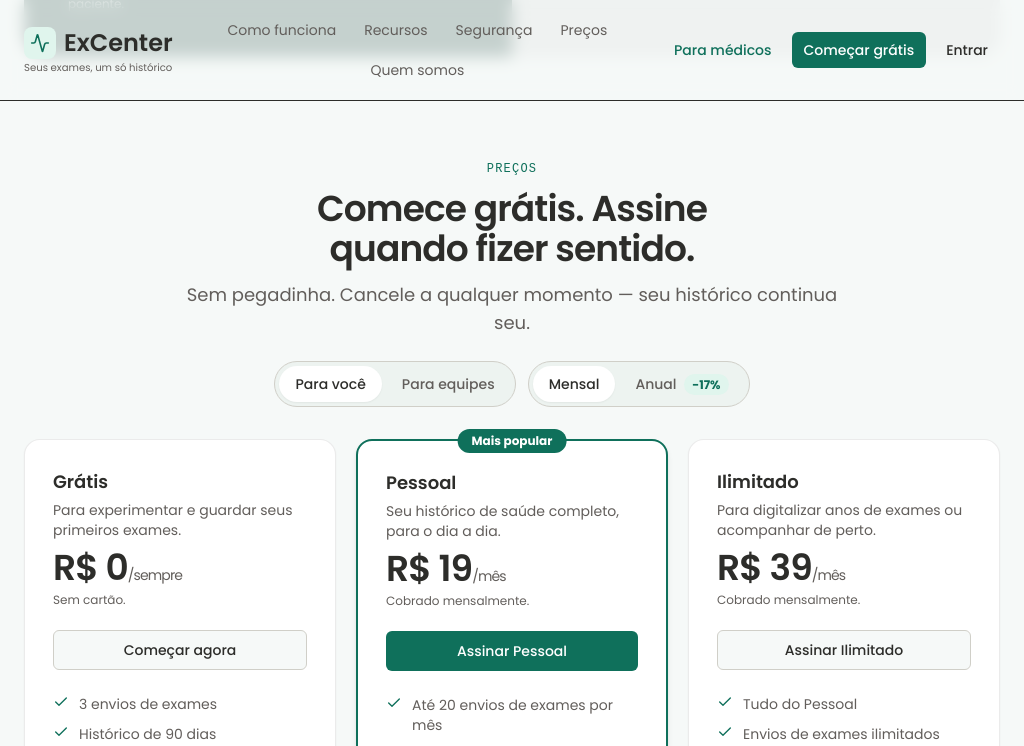
Test: Landing — planos para equipes › Para equipes troca os três cards e explica o modelo
(page scrolled)
Click the button "Para equipes".
click(448, 384)  # box [386,366,511,402]
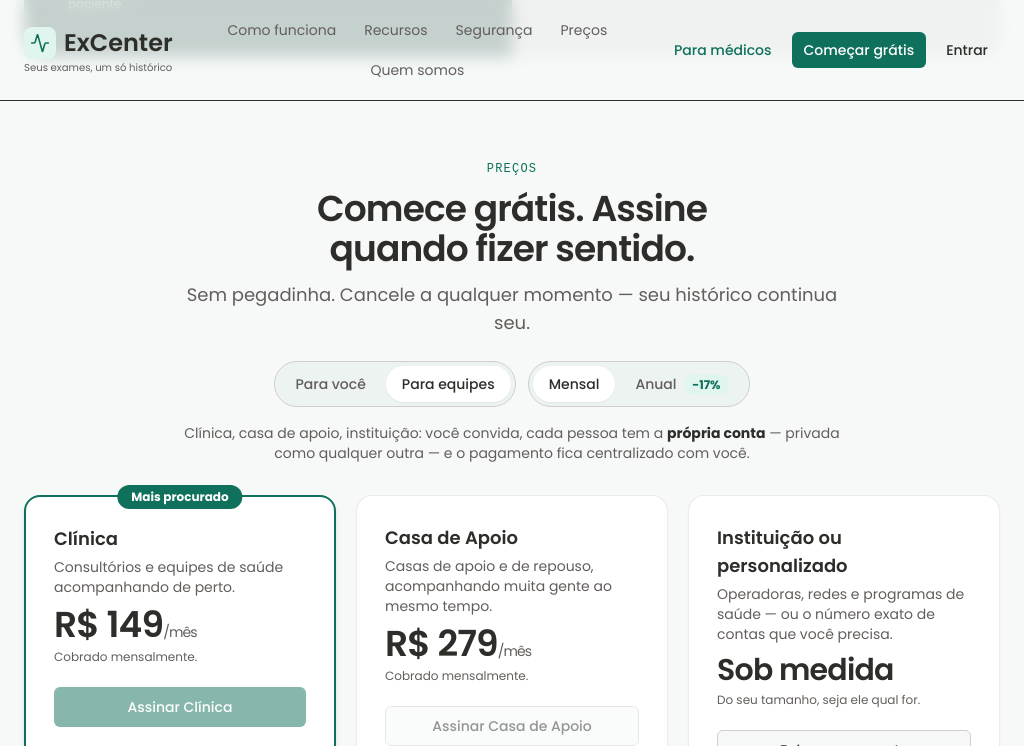
Check: the text "Clínica" is shown, box [54,526,118,551]
Check: the text "Casa de Apoio" is shown, box [385,525,518,550]
Check: the text "Instituição ou personalizado" is shown, box [717,525,848,578]
